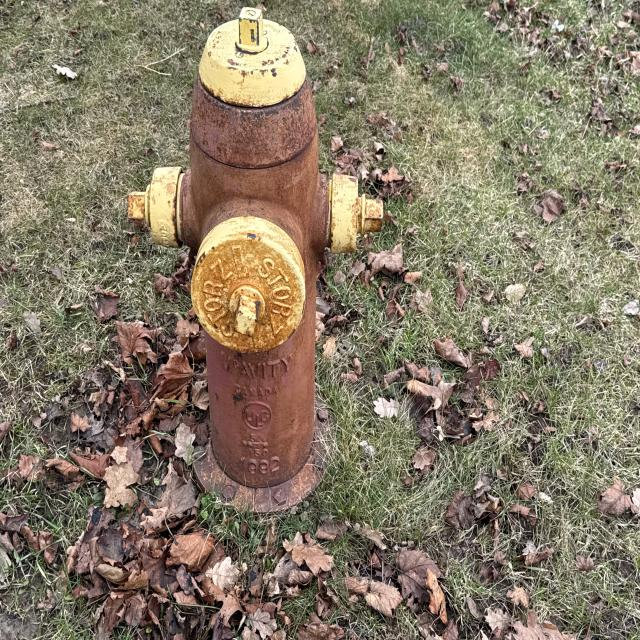Fire hydrant: (124, 1, 388, 522)
